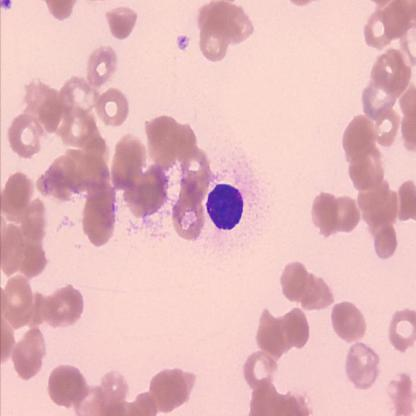Basophil: (204, 179, 245, 233)
